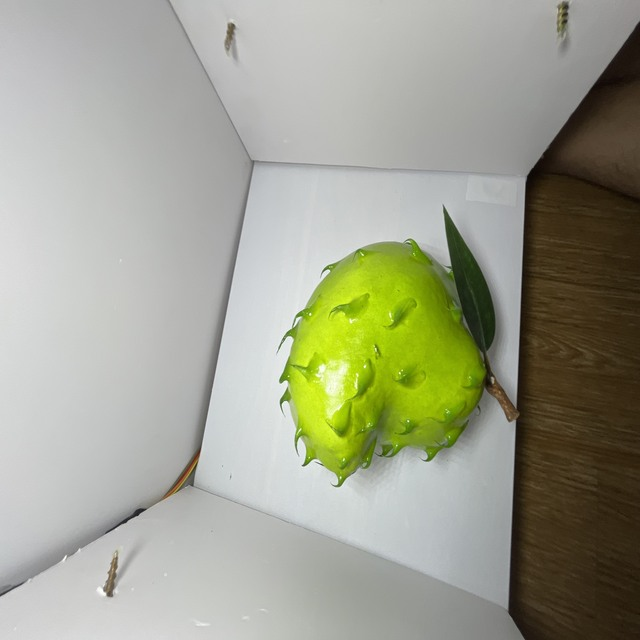Man cau: (265, 224, 500, 499)
